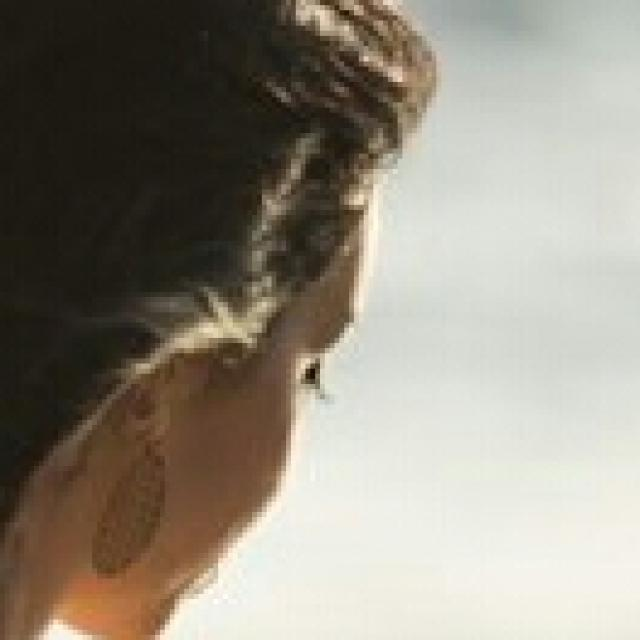left: (162, 265, 500, 640)
